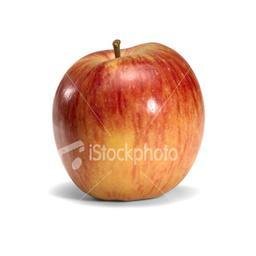apple: (50, 42, 205, 201)
